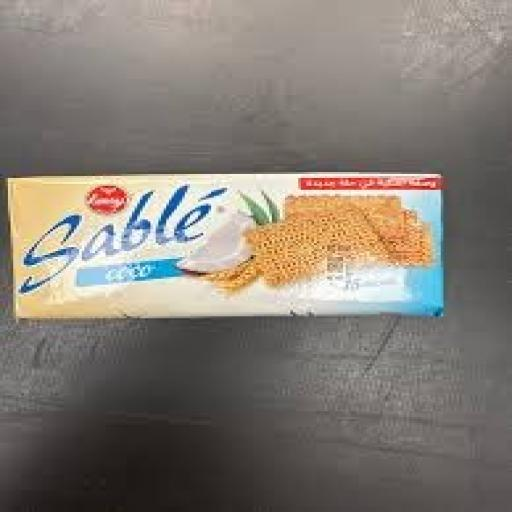sable: (0, 135, 512, 398)
